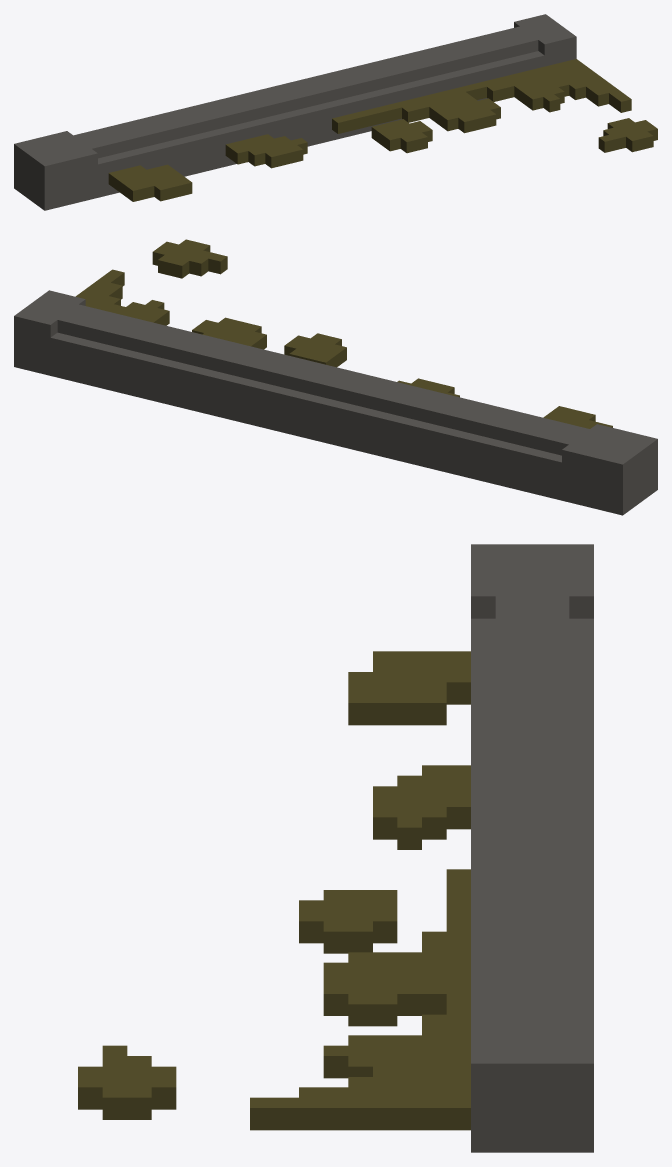
Rendered from Water_floating_rocks.glb.
The picture shows the model from 3 angles, top to bottom: view 1: azimuth 30°, elevation 25°; view 2: azimuth 150°, elevation 25°; view 3: azimuth 270°, elevation 25°; orthographic projection. The views are drawn at different scales.
Parts seen in each view (by area): view 1: Water_floating_rocks; view 2: Water_floating_rocks; view 3: Water_floating_rocks.
Part boxes in pixels (box(x1,y1,x2,y2)): Water_floating_rocks: box(14, 14, 657, 210); Water_floating_rocks: box(14, 239, 657, 515); Water_floating_rocks: box(78, 544, 593, 1152).
Bounding box in the file's own units: 4.7 × 0.376 × 1.97.
1 material, 1 textured.
